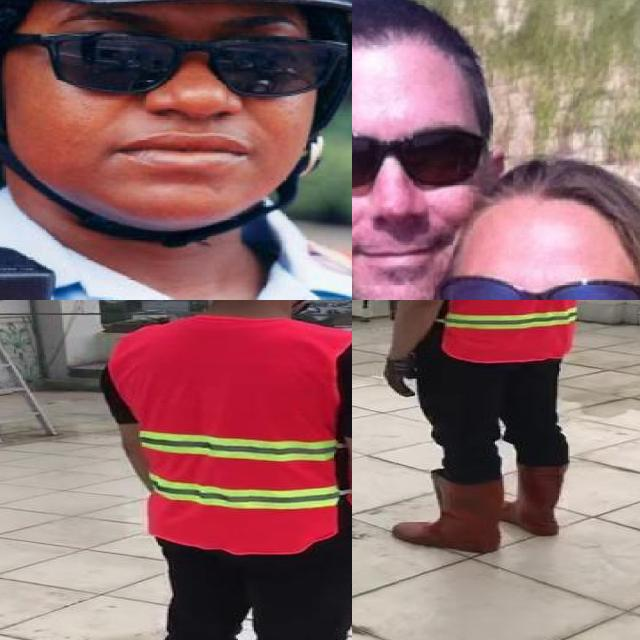boots: (392, 473, 502, 555), (502, 460, 563, 536)
face_nomask: (51, 18, 300, 191), (352, 123, 475, 280)
glasses: (3, 18, 352, 100), (352, 123, 486, 195), (430, 271, 640, 300)
hand_glove: (379, 356, 418, 398)
head_helmet: (101, 300, 352, 640)
head_nohelmet: (428, 154, 640, 245), (352, 0, 483, 83)
person: (368, 300, 610, 557)
vest: (108, 316, 352, 553), (436, 300, 599, 362)
